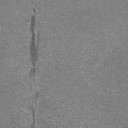red iron: (30, 15, 40, 76), (30, 106, 35, 128), (36, 92, 39, 100), (33, 8, 36, 14)
